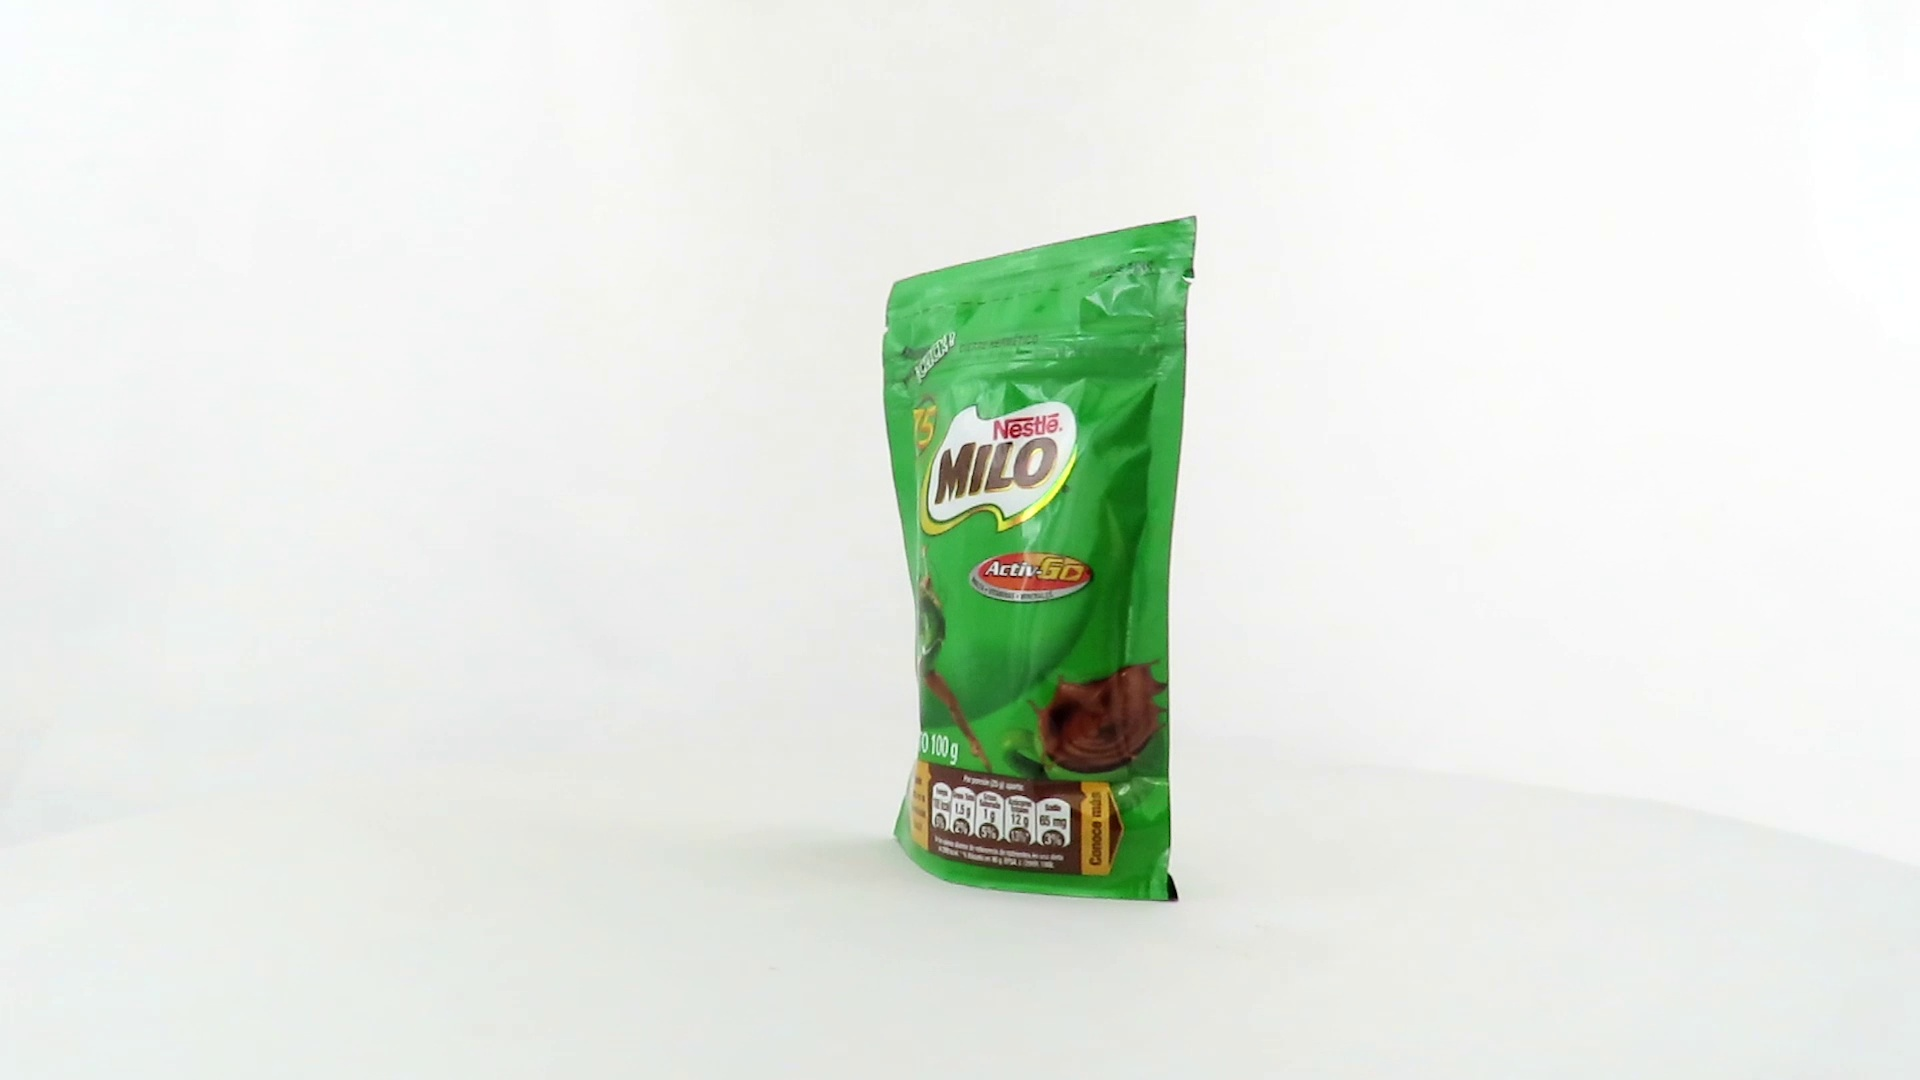COL0170203DYP10000: (877, 210, 1203, 909)
